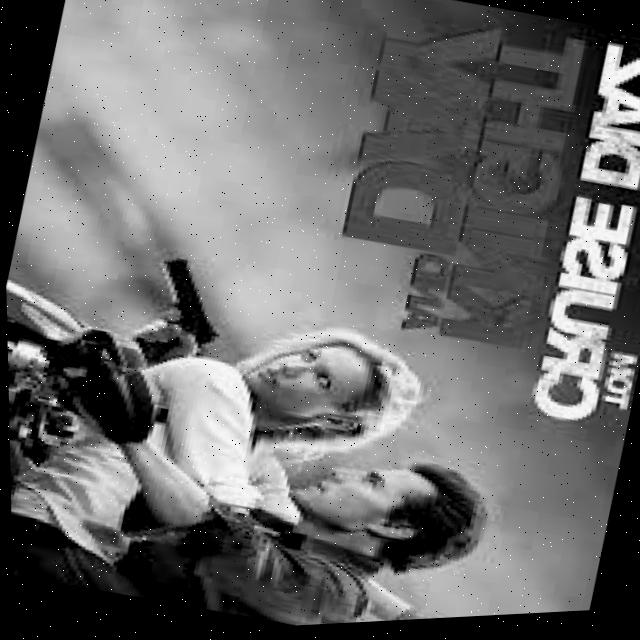pistol: (144, 253, 237, 366)
